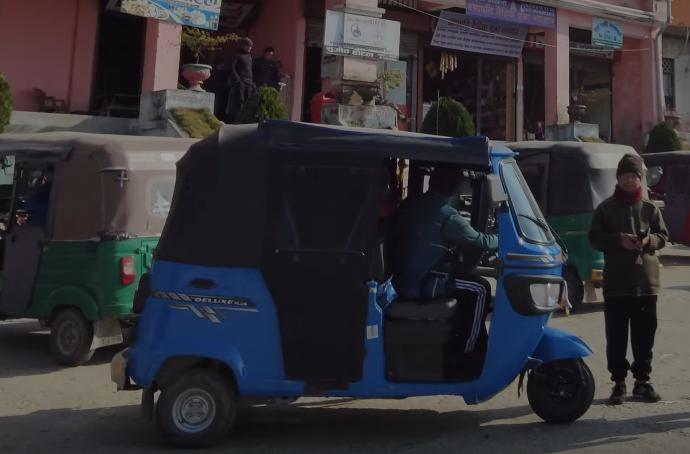auto_rickshaw: (104, 115, 599, 454)
